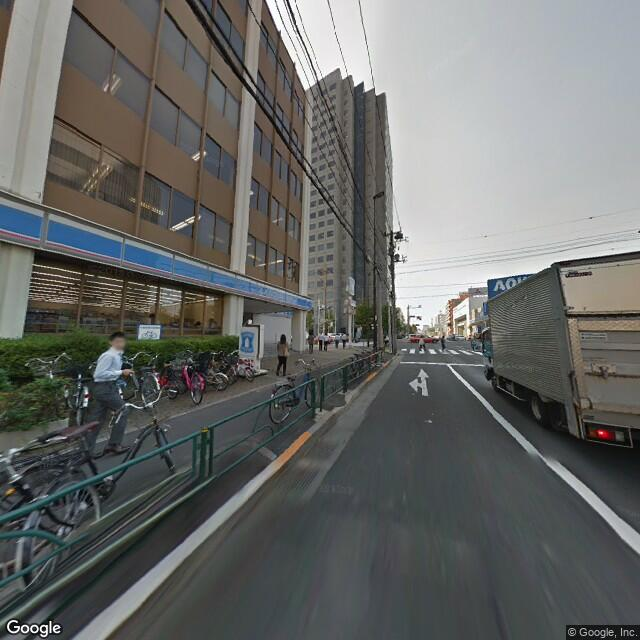lawson: (1, 196, 314, 312), (237, 327, 256, 358)
